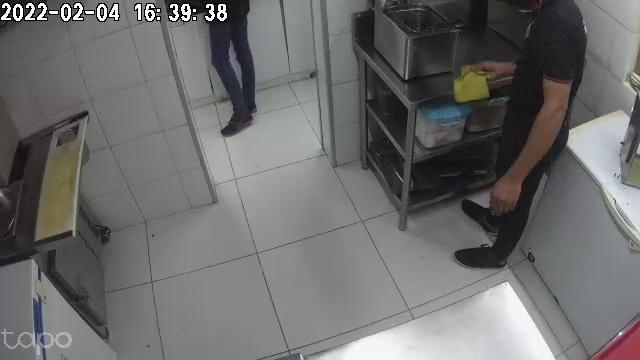no_gloves: (490, 168, 525, 214)
